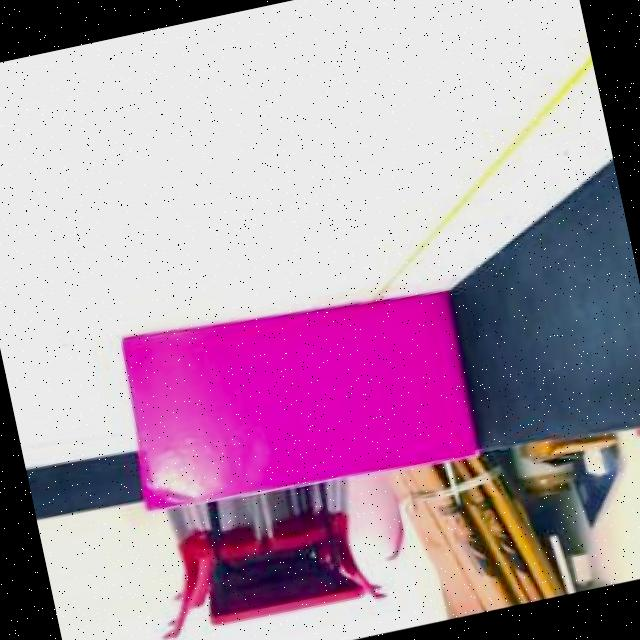xparking: (103, 267, 476, 512)
